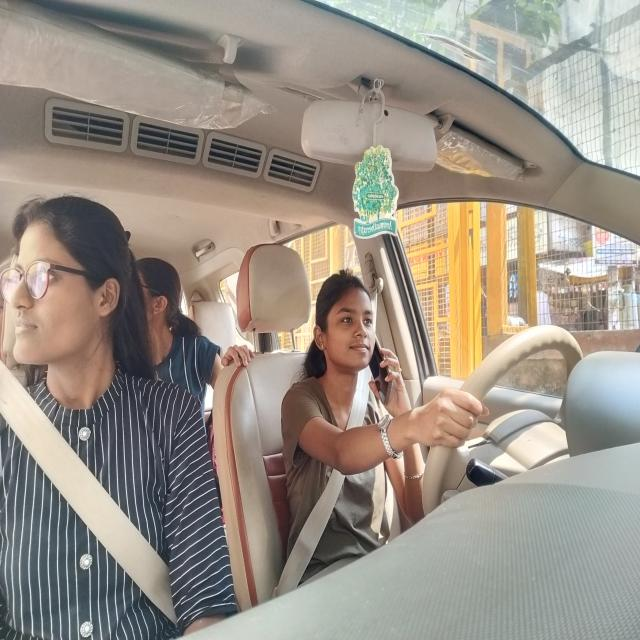mobile: (372, 340, 390, 402)
person: (0, 168, 146, 428), (306, 268, 398, 426), (132, 239, 198, 395)
